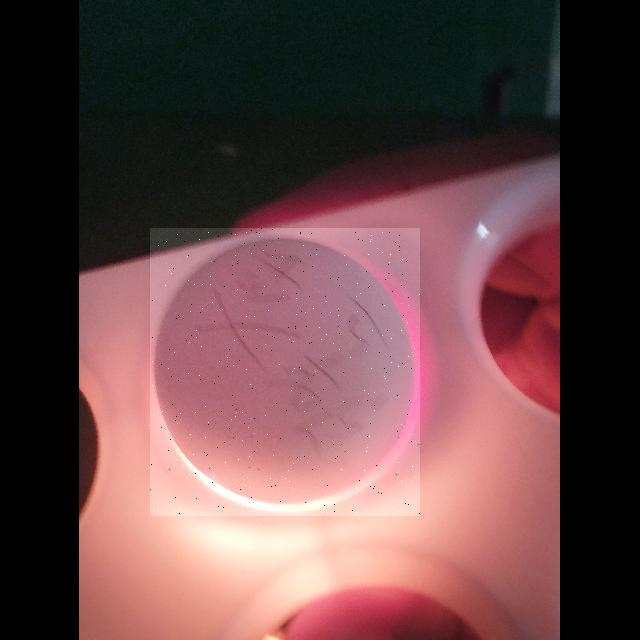Fertile: (150, 228, 420, 516)
